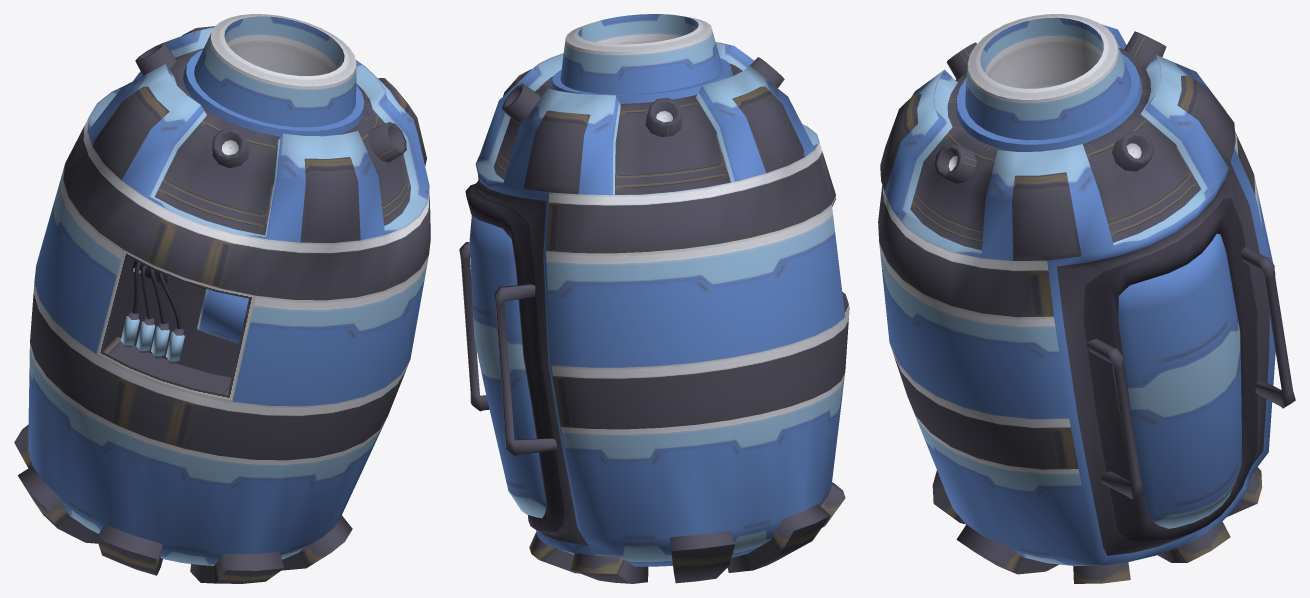
The model's file is mdlEscapePod.fbx.
3 views of the same model, side by side, from view 1: azimuth 30°, elevation 25°; view 2: azimuth 150°, elevation 25°; view 3: azimuth 270°, elevation 25° (orthographic). The views are drawn at different scales.
Parts seen in each view (by area): view 1: EscapePodMesh; view 2: EscapePodMesh, EscapePodDoorMesh; view 3: EscapePodMesh, EscapePodDoorMesh.
Part boxes in pixels (box(x1,y1,x2,y2)): EscapePodMesh: box(14, 14, 430, 583); EscapePodMesh: box(459, 14, 849, 583); EscapePodDoorMesh: box(469, 215, 546, 518); EscapePodMesh: box(878, 14, 1295, 583); EscapePodDoorMesh: box(1118, 233, 1242, 528).
Bounding box in the file's own units: 3.66 × 5.02 × 3.58.
1 material, 1 textured.
